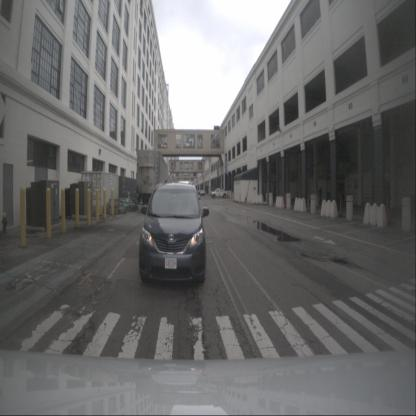barrier: (363, 202, 388, 228), (320, 198, 339, 218), (294, 198, 306, 212), (252, 192, 264, 204), (275, 195, 284, 209)
cone: (389, 194, 394, 226), (385, 194, 390, 226), (338, 194, 342, 217), (307, 192, 310, 212), (284, 192, 287, 208)
